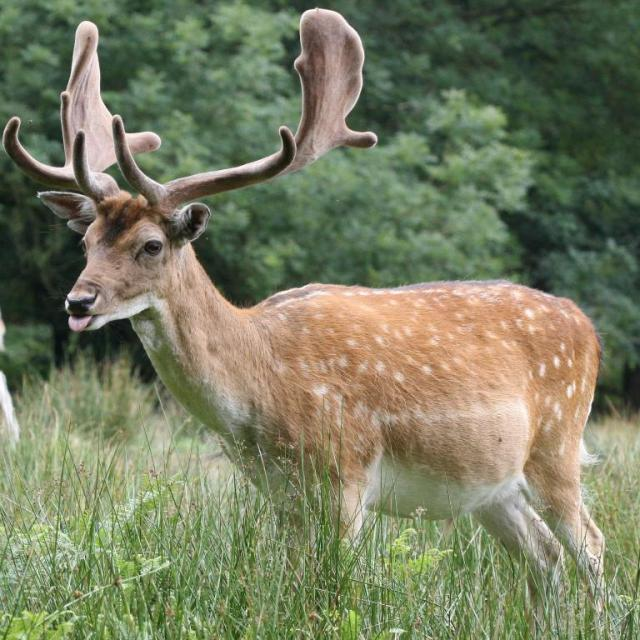Deer: (2, 6, 610, 640)
